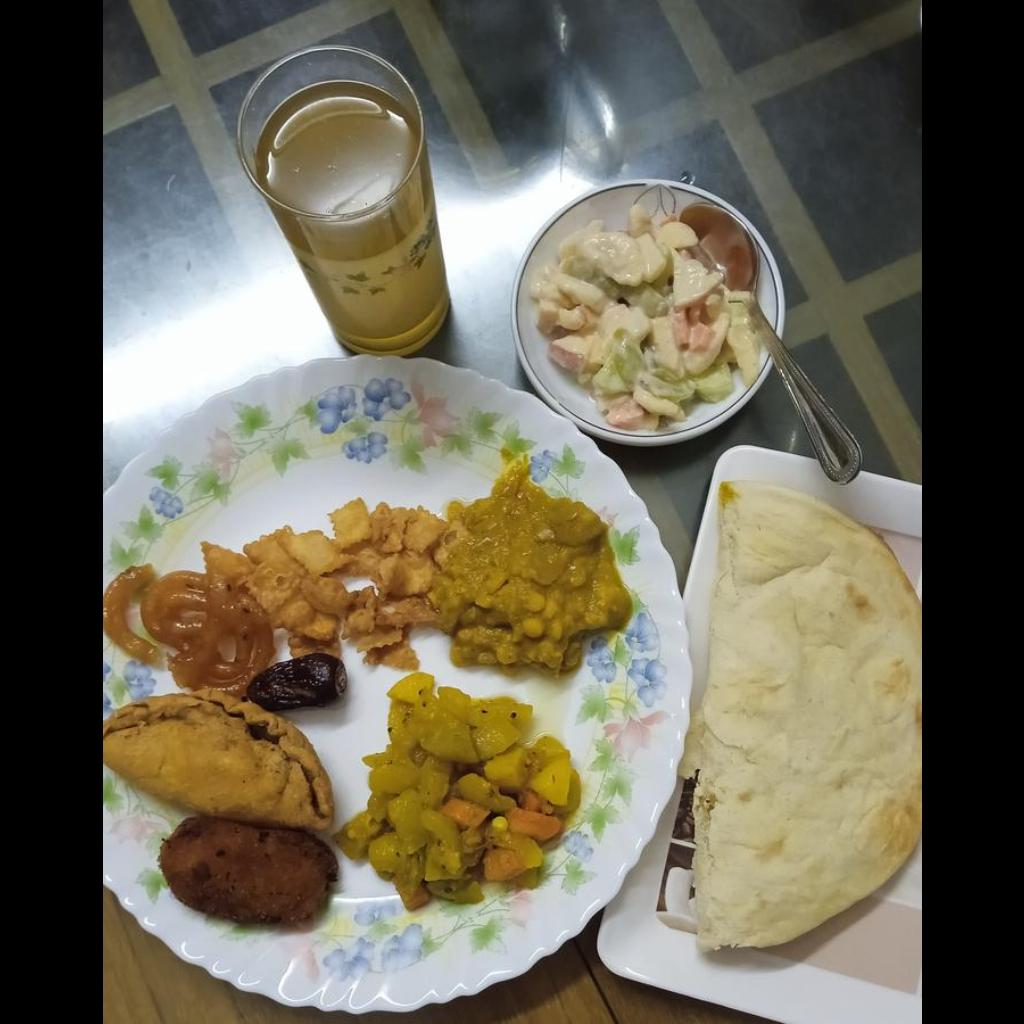chomchom: (200, 498, 446, 669), (102, 689, 332, 831)
daal: (447, 479, 628, 674)
jilapi: (104, 564, 266, 689)
juice: (275, 97, 403, 205)
kabab: (155, 823, 339, 927)
ruti: (684, 488, 920, 948)
salad: (529, 205, 760, 430)
vegetable: (348, 679, 569, 902)
